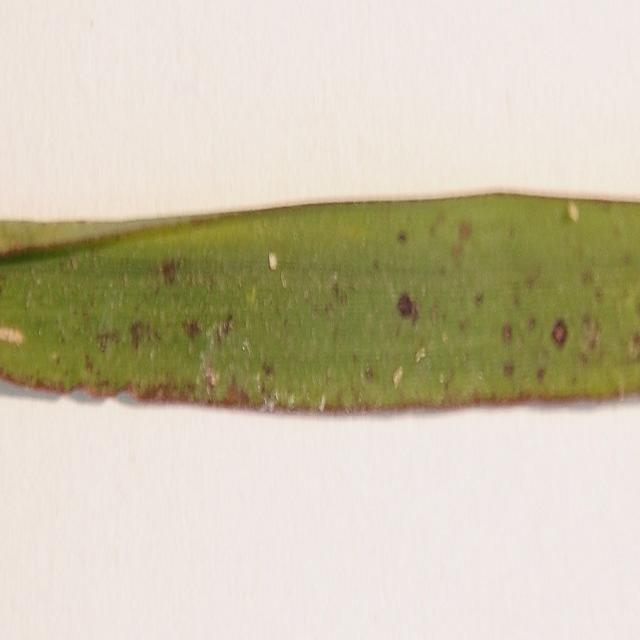Leafsmut: (580, 317, 602, 352), (221, 377, 251, 402), (130, 383, 169, 401), (95, 329, 121, 355), (128, 320, 148, 347), (550, 318, 569, 346), (396, 293, 416, 319), (0, 325, 26, 345), (330, 282, 349, 306), (161, 259, 179, 284), (218, 316, 236, 338), (429, 212, 446, 234), (625, 334, 640, 357), (184, 320, 202, 339), (439, 369, 455, 390), (85, 383, 106, 398), (581, 268, 597, 286), (523, 272, 539, 290), (458, 222, 473, 241), (450, 242, 464, 260), (260, 361, 274, 378), (83, 353, 95, 372), (501, 323, 513, 341), (363, 365, 376, 381), (68, 256, 81, 272), (393, 370, 403, 390), (255, 370, 265, 390), (267, 254, 278, 272), (415, 348, 427, 364), (594, 286, 606, 302), (622, 253, 635, 267), (503, 362, 515, 377), (473, 292, 485, 307), (396, 230, 408, 244), (506, 225, 517, 240), (271, 389, 281, 405), (265, 397, 276, 411), (458, 318, 469, 332), (579, 351, 590, 365), (618, 382, 626, 401), (571, 205, 580, 221), (209, 372, 219, 386), (242, 338, 252, 352), (536, 367, 546, 381), (527, 316, 537, 330), (371, 258, 381, 272), (280, 271, 288, 288), (50, 352, 61, 364), (330, 271, 340, 284), (318, 393, 326, 409), (634, 332, 640, 352), (287, 393, 296, 406), (148, 348, 156, 362), (438, 372, 446, 384), (442, 331, 449, 344)
